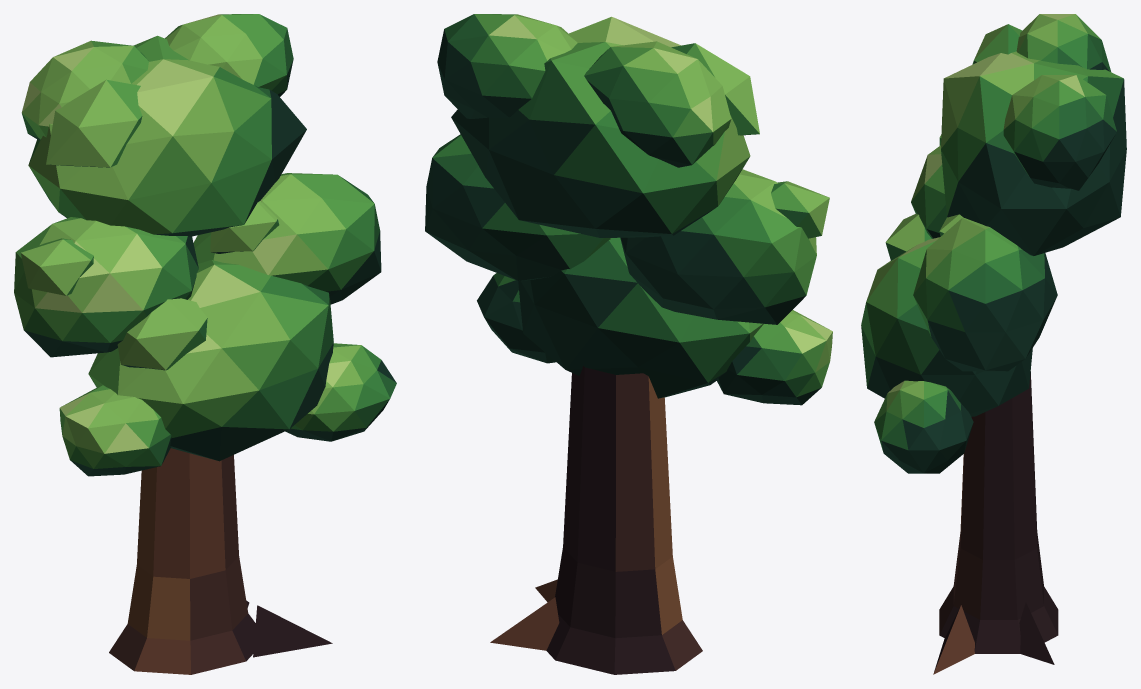
Rendered from tree_tree5.glb.
The picture shows the model from 3 angles, left to right: view 1: azimuth 30°, elevation 25°; view 2: azimuth 150°, elevation 25°; view 3: azimuth 270°, elevation 25°; orthographic projection. The views are drawn at different scales.
Visible parts, largest first — view 1: tree5; view 2: tree5; view 3: tree5.
Boxes of the visible parts, bbox=[...] form: tree5: bbox=[14, 14, 396, 674]; tree5: bbox=[425, 14, 832, 674]; tree5: bbox=[861, 14, 1126, 674].
Size of the model in its own units: 0.9507 by 1.52 by 0.6403.
